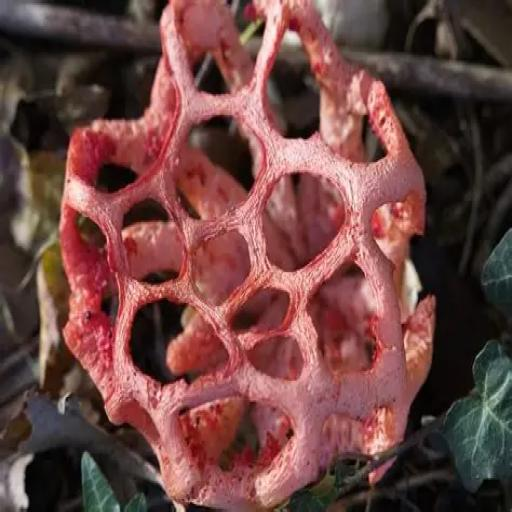Red Cage Fungus: (60, 4, 432, 507)
